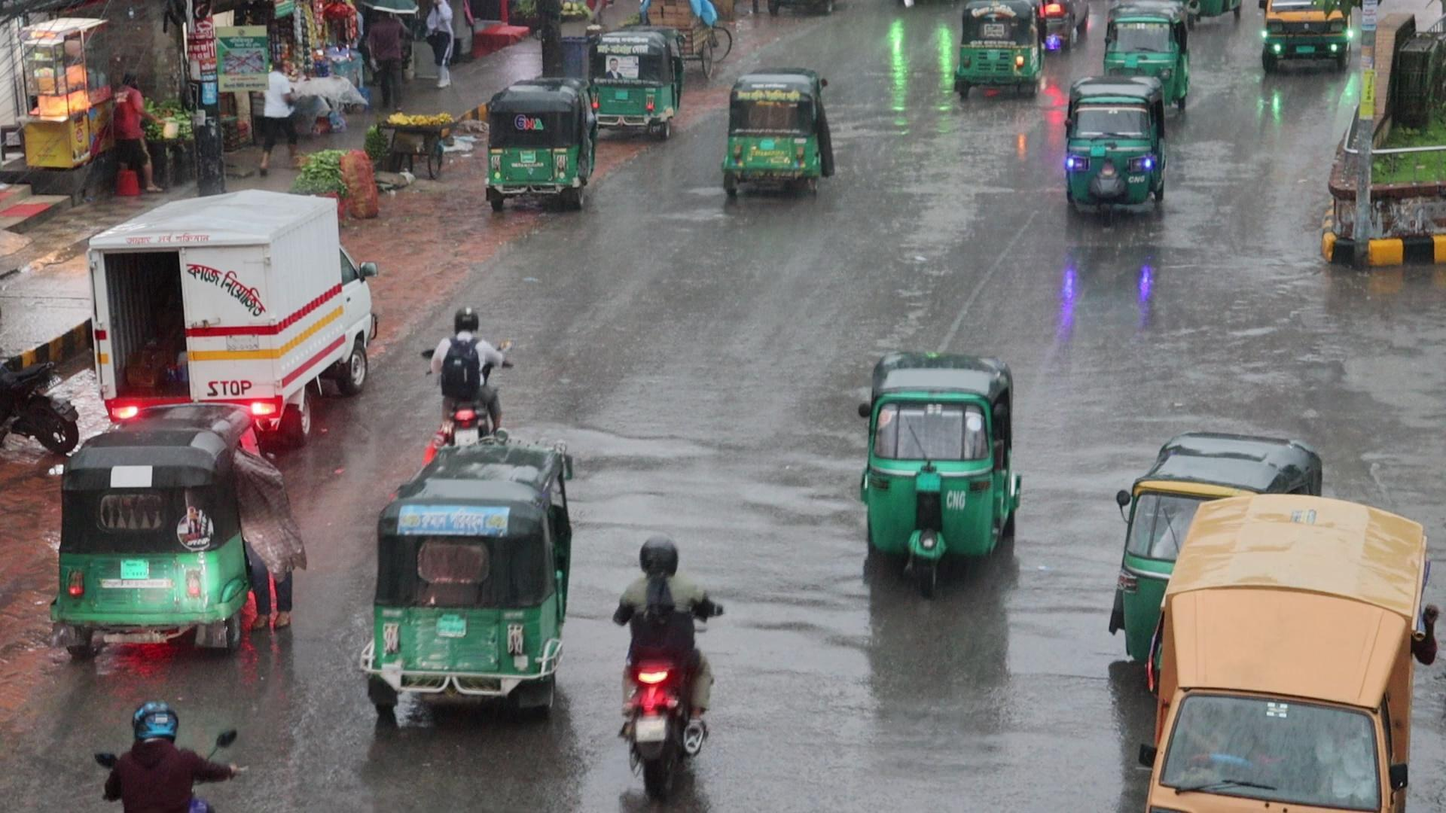Bike: (609, 529, 721, 803), (411, 301, 519, 446)
